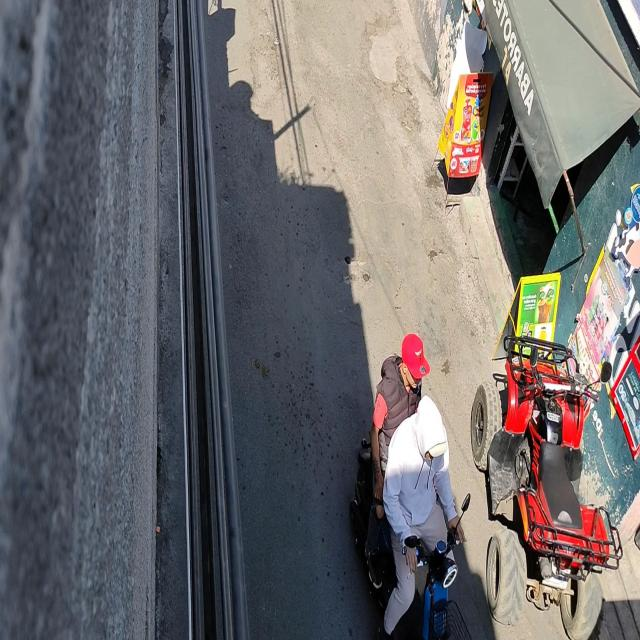adult: (378, 397, 464, 640), (365, 331, 431, 600)
